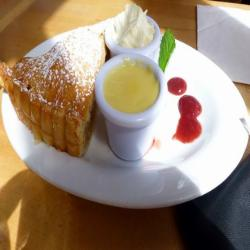apple_pie: (2, 26, 106, 158)
